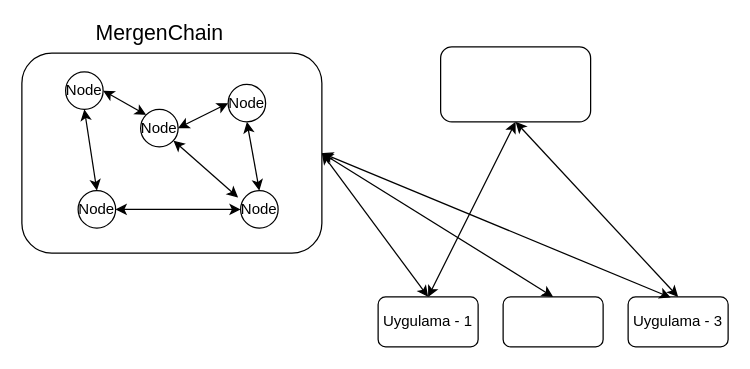
The diagram is 750 pixels wide and 369 high, and some of its shapes have lost their labels. The centre of each missing label's shape, as x and y in pixels:
"Almıla AI" goes at point (515, 84).
"Uygulama - 2" goes at point (552, 321).
